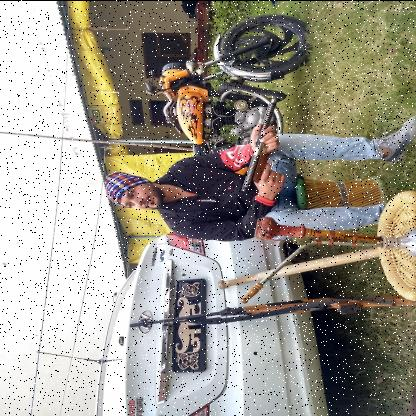rifle: (127, 290, 416, 328), (240, 96, 286, 192)
